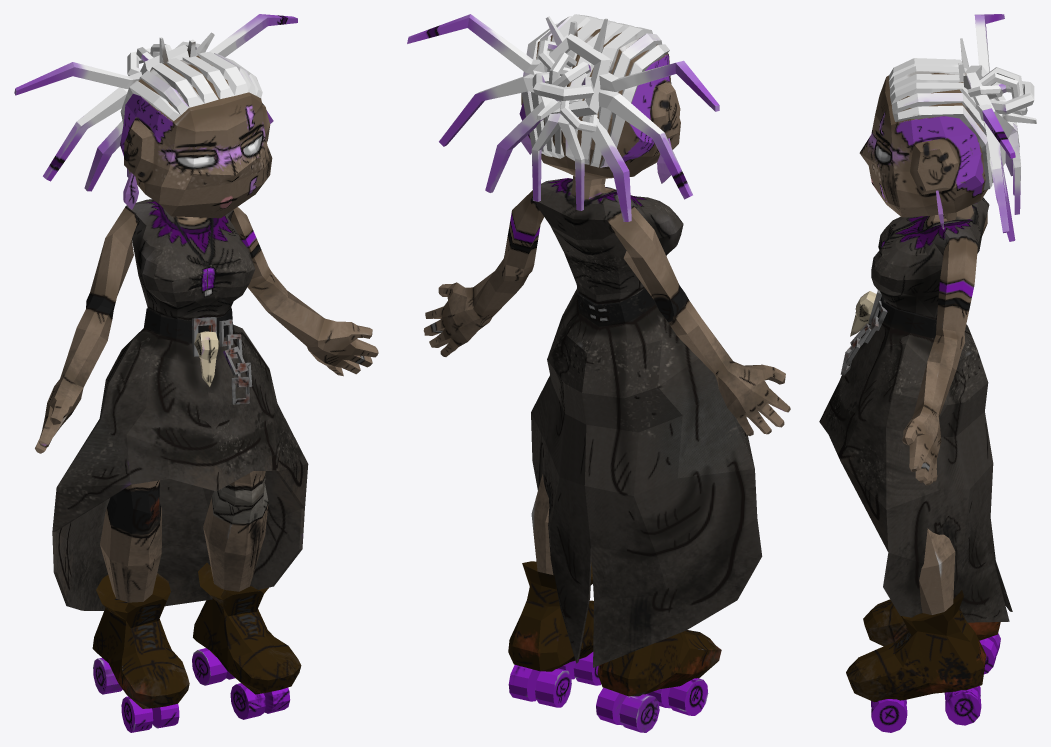
The model's file is bruja_000086.obj.
3 renders of one model, left to right at view 1: azimuth 30°, elevation 25°; view 2: azimuth 150°, elevation 25°; view 3: azimuth 270°, elevation 25°, orthographic. The views are drawn at different scales.
Visible parts, largest first — view 1: Bruja_Plane.001; view 2: Bruja_Plane.001; view 3: Bruja_Plane.001.
Boxes of the visible parts, x1=… form: Bruja_Plane.001: x1=14, y1=14, x2=378, y2=732; Bruja_Plane.001: x1=407, y1=14, x2=790, y2=732; Bruja_Plane.001: x1=819, y1=14, x2=1036, y2=732.
Size of the model in its own units: 8.84 by 16.46 by 4.96.
